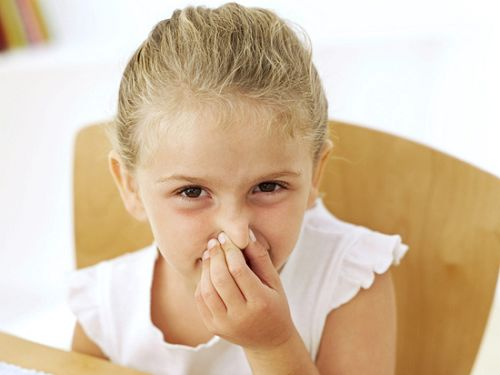face: (143, 93, 308, 301)
